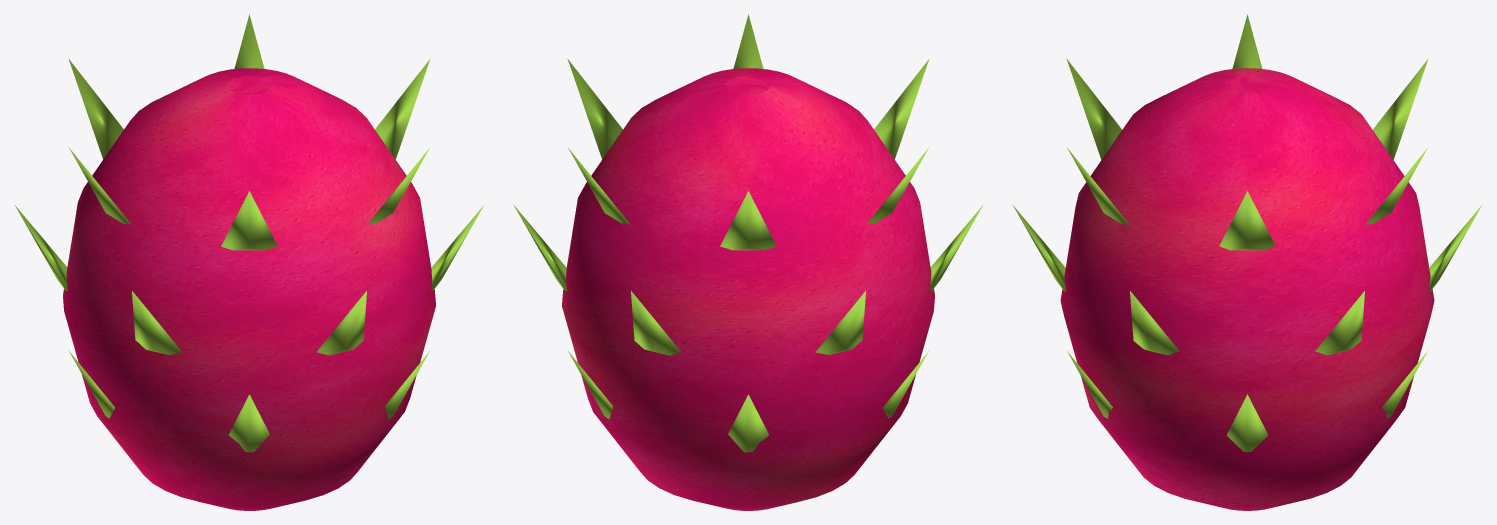
The model's file is dragon_fruit-rNlX3L9Z.glb.
The picture shows the model from 3 angles, left to right: view 1: azimuth 30°, elevation 25°; view 2: azimuth 150°, elevation 25°; view 3: azimuth 270°, elevation 25°; orthographic projection.
Visible parts, largest first — view 1: FLC_dragon_fruit; view 2: FLC_dragon_fruit; view 3: FLC_dragon_fruit.
Boxes of the visible parts, box(x1,y1,x2,y2) form: FLC_dragon_fruit: box(15, 14, 483, 510); FLC_dragon_fruit: box(514, 14, 982, 510); FLC_dragon_fruit: box(1013, 14, 1481, 510).
Bounding box in the file's own units: 0.727 × 0.78 × 0.818.
2 materials, 1 textured.
